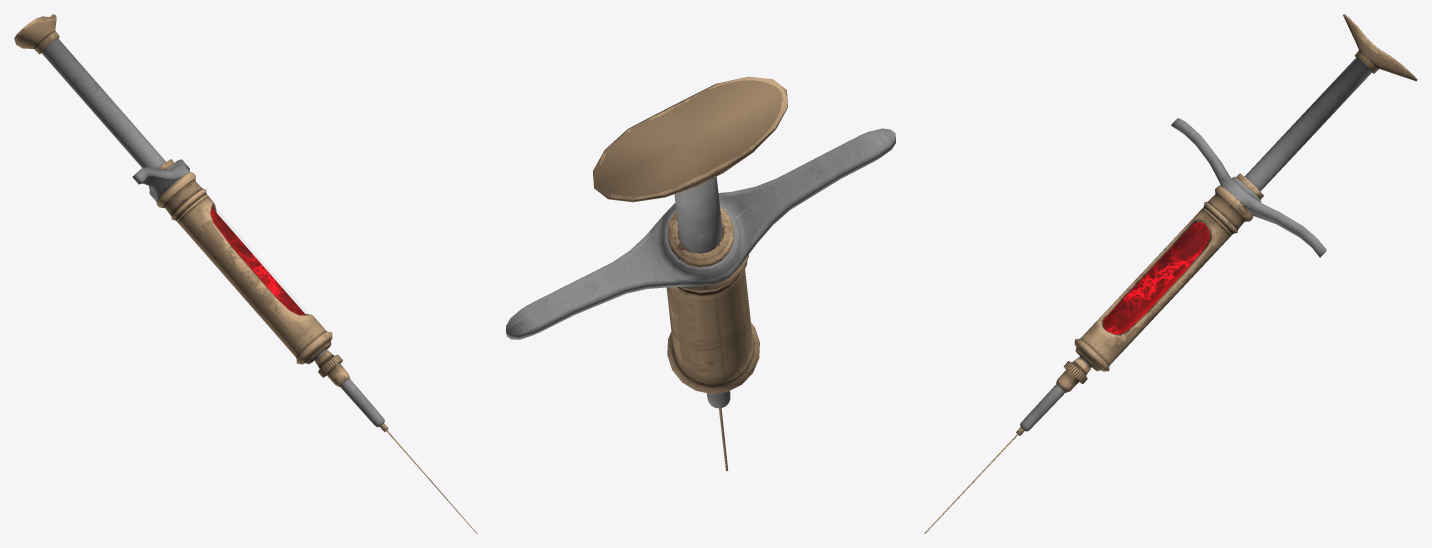
File: re-animator_syringe.glb
3 renders of one model, left to right at view 1: azimuth 30°, elevation 25°; view 2: azimuth 150°, elevation 25°; view 3: azimuth 270°, elevation 25°, orthographic. The views are drawn at different scales.
Parts seen in each view (by area): view 1: Syringe_low_01 - Default_0, Syringe_pusher_low_01 - Default_0, Syringe_blood_low_01 - Default_0, Syringe_nib_low_01 - Default_0, Syringe_grip_low_01 - Default_0; view 2: Syringe_pusher_low_01 - Default_0, Syringe_grip_low_01 - Default_0, Syringe_low_01 - Default_0, Syringe_nib_low_01 - Default_0; view 3: Syringe_low_01 - Default_0, Syringe_pusher_low_01 - Default_0, Syringe_blood_low_01 - Default_0, Syringe_grip_low_01 - Default_0, Syringe_nib_low_01 - Default_0.
Boxes of the visible parts, left/top/right/bottom form: Syringe_low_01 - Default_0: left=156, top=159, right=332, bottom=364; Syringe_pusher_low_01 - Default_0: left=14, top=14, right=165, bottom=169; Syringe_blood_low_01 - Default_0: left=210, top=207, right=305, bottom=315; Syringe_nib_low_01 - Default_0: left=326, top=363, right=477, bottom=533; Syringe_grip_low_01 - Default_0: left=132, top=159, right=190, bottom=201; Syringe_pusher_low_01 - Default_0: left=593, top=76, right=787, bottom=253; Syringe_grip_low_01 - Default_0: left=506, top=128, right=895, bottom=339; Syringe_low_01 - Default_0: left=666, top=206, right=759, bottom=393; Syringe_nib_low_01 - Default_0: left=706, top=391, right=730, bottom=471; Syringe_low_01 - Default_0: left=1074, top=173, right=1263, bottom=371; Syringe_pusher_low_01 - Default_0: left=1244, top=14, right=1417, bottom=191; Syringe_blood_low_01 - Default_0: left=1103, top=222, right=1209, bottom=334; Syringe_grip_low_01 - Default_0: left=1171, top=118, right=1326, bottom=257; Syringe_nib_low_01 - Default_0: left=924, top=369, right=1079, bottom=533.
Bounding box in the file's own units: 129 × 207 × 227.
1 material, 1 textured.
